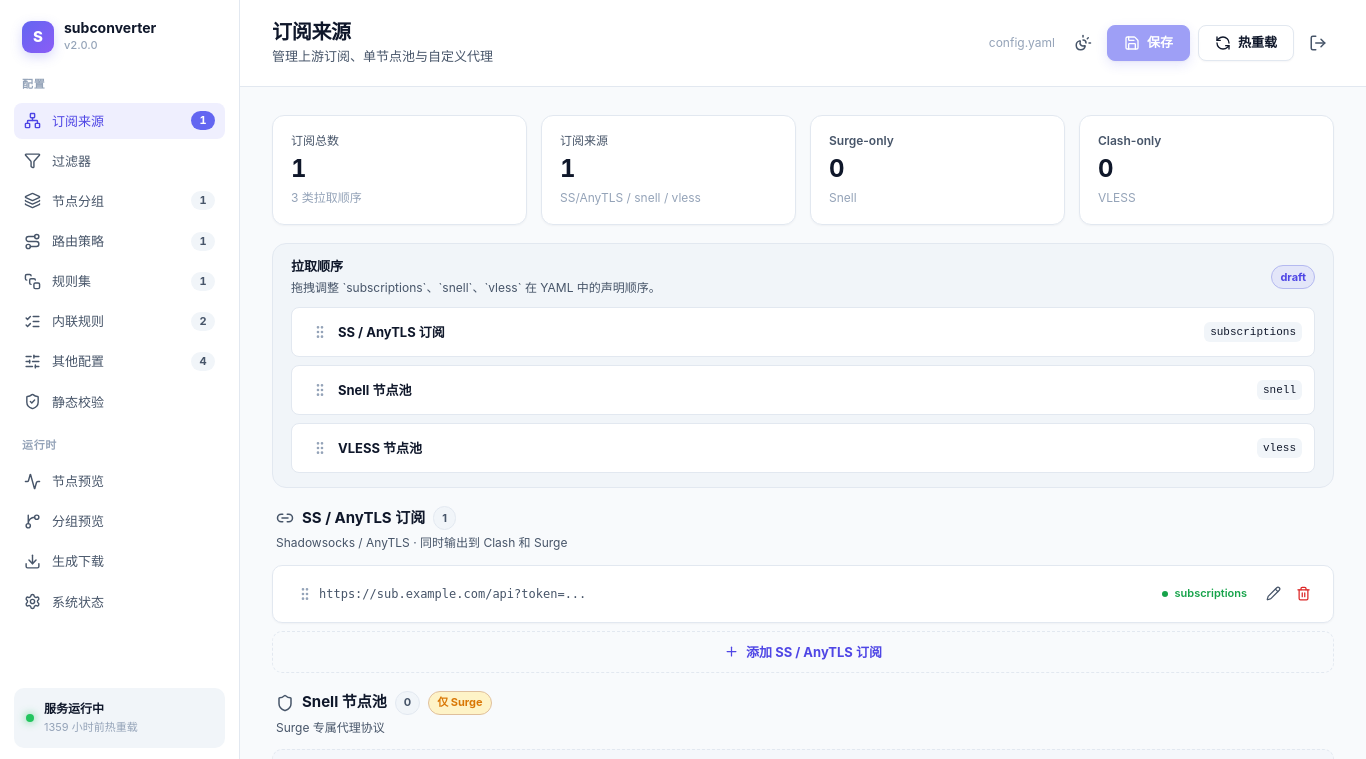
save workflow › navigates to /validate when static validation fails on save
Expected: the heading "订阅来源" is shown, [272, 20, 351, 44]
Click the button "添加 SS / AnyTLS 订阅": (803, 652) [272, 631, 1334, 673]
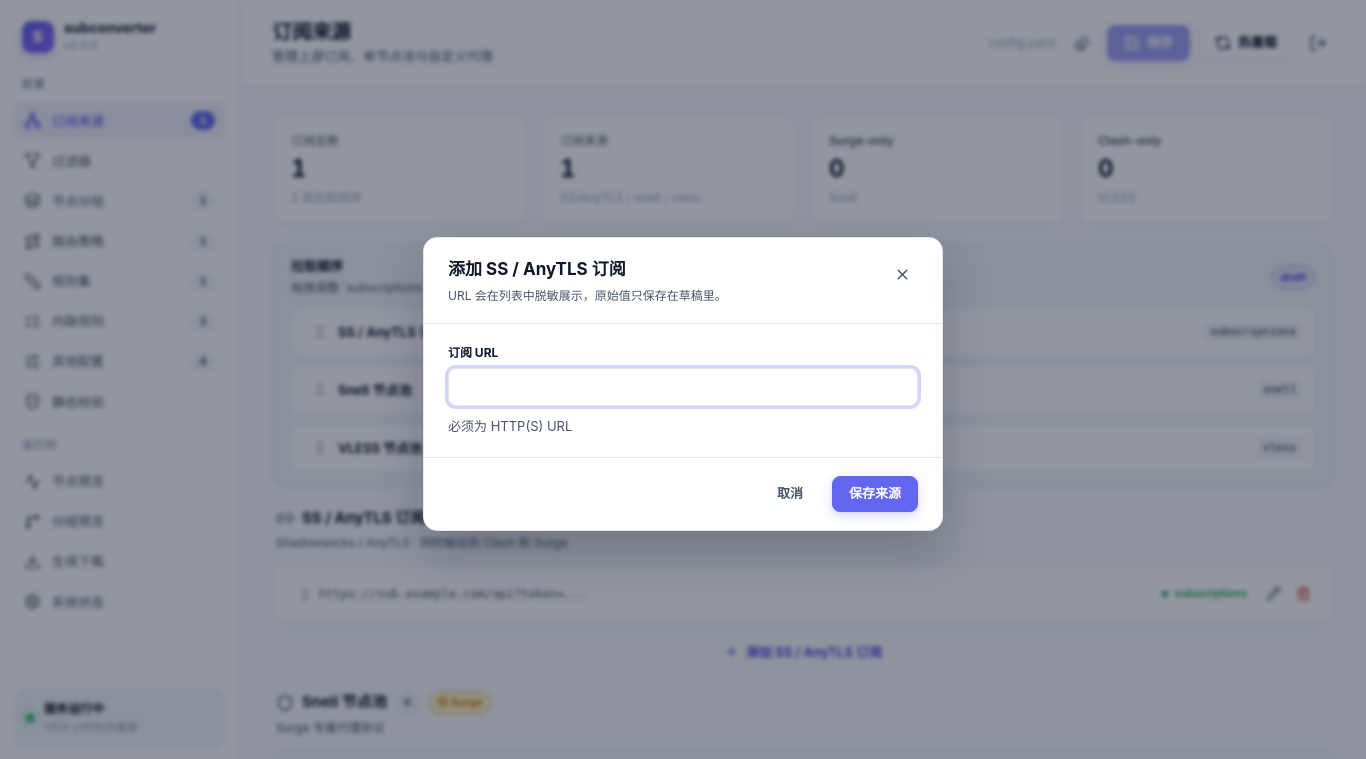
Result: the dialog "添加 SS / AnyTLS 订阅" is shown at [423, 237, 943, 531]
In the field: (683, 387) [448, 368, 918, 406], type "https://sub.example.com/new?token=secret"
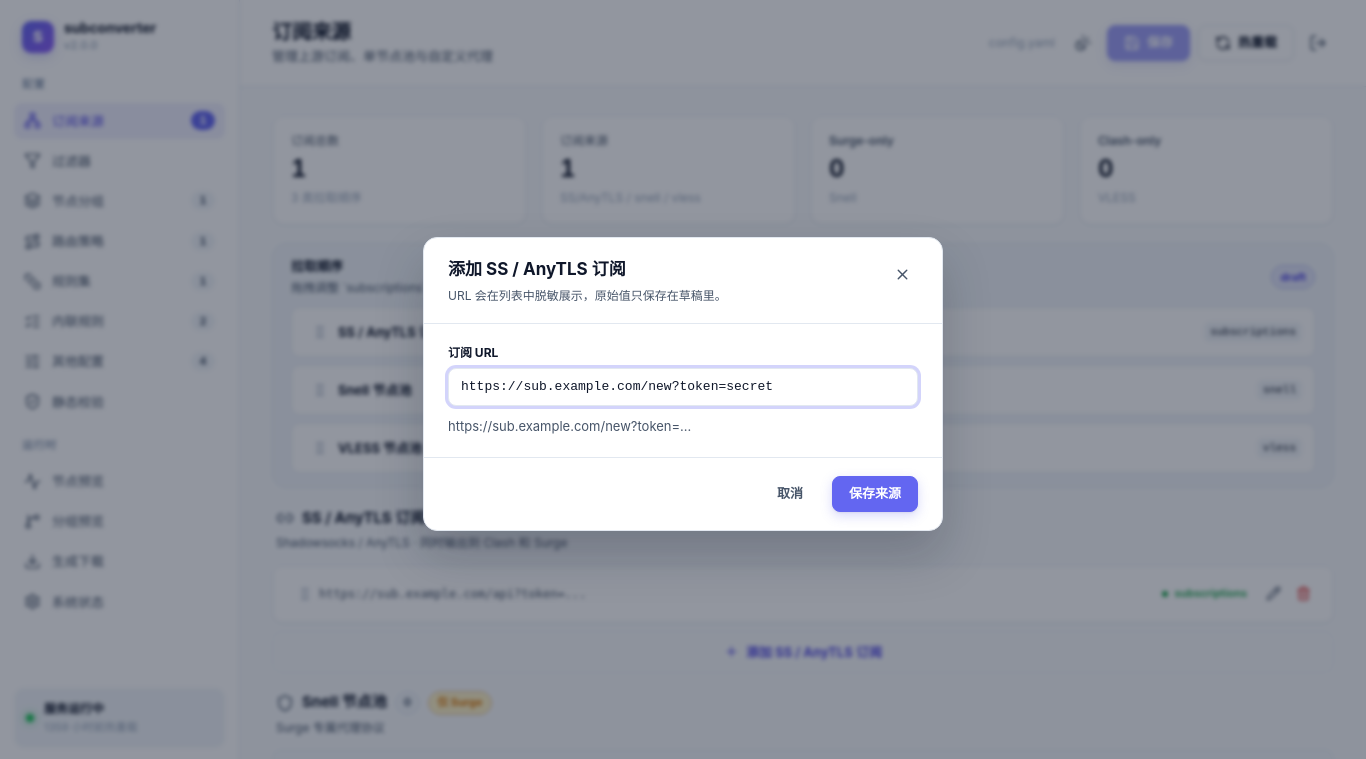
Click the button "保存来源": (875, 494) [832, 476, 918, 512]
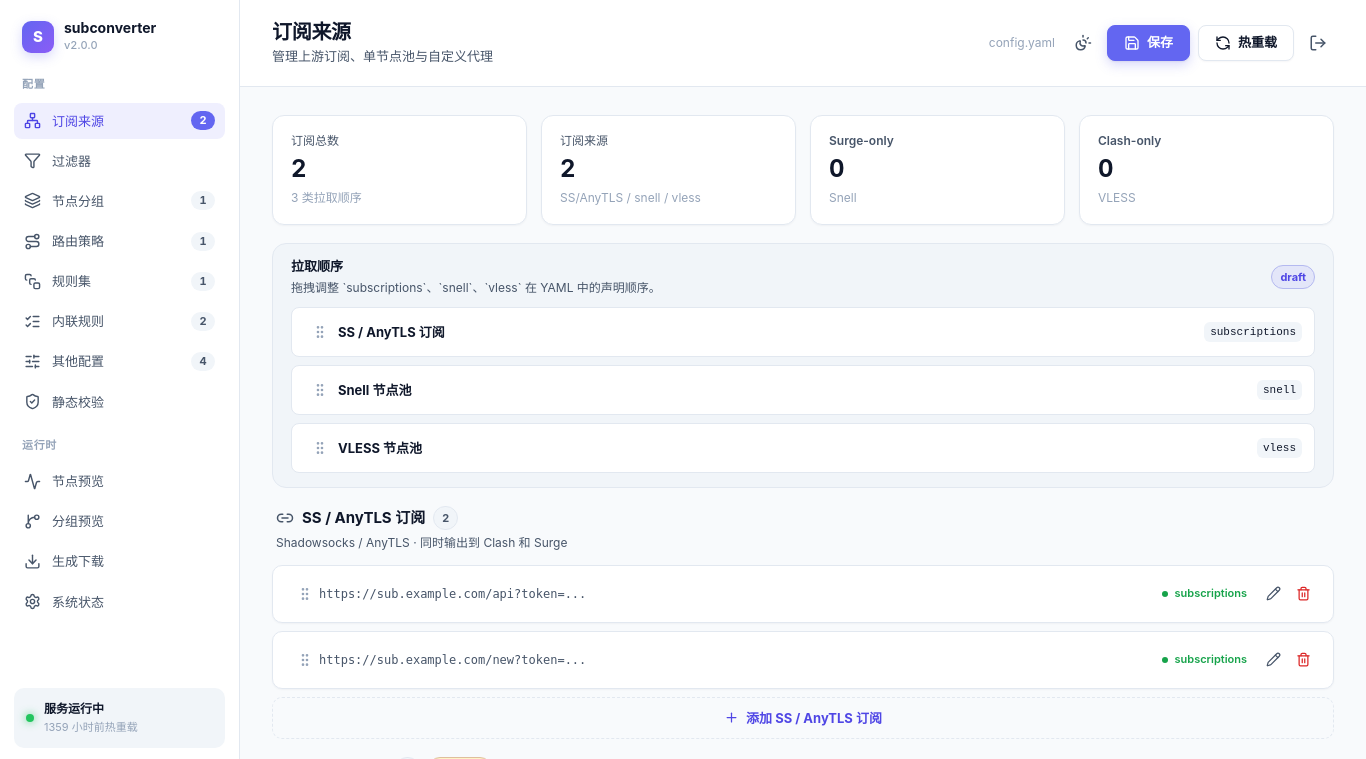
Result: the button "保存" is enabled
Click the button "保存": (1148, 43) [1107, 25, 1190, 61]
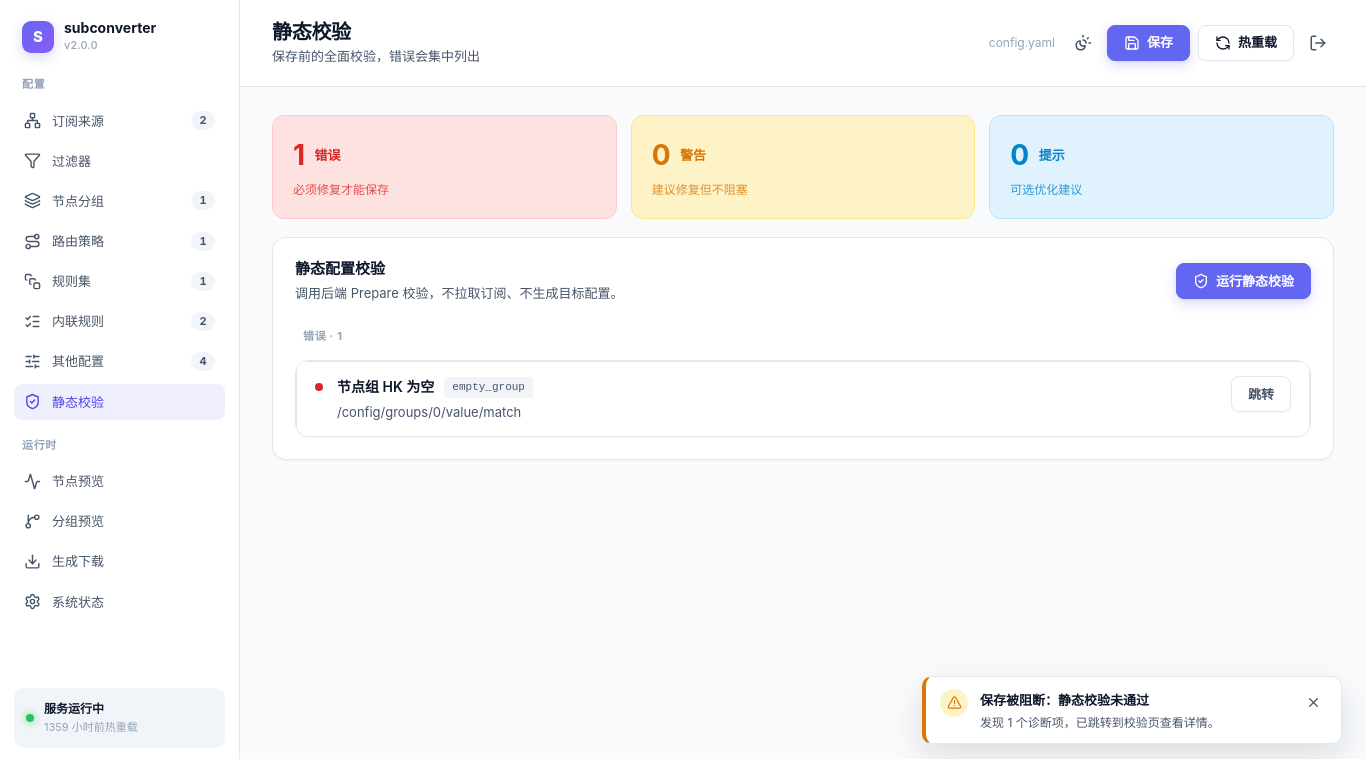
Result: the heading "静态校验" is shown at [272, 20, 351, 44]
Result: the text "节点组 HK 为空" is shown at [337, 376, 434, 398]
